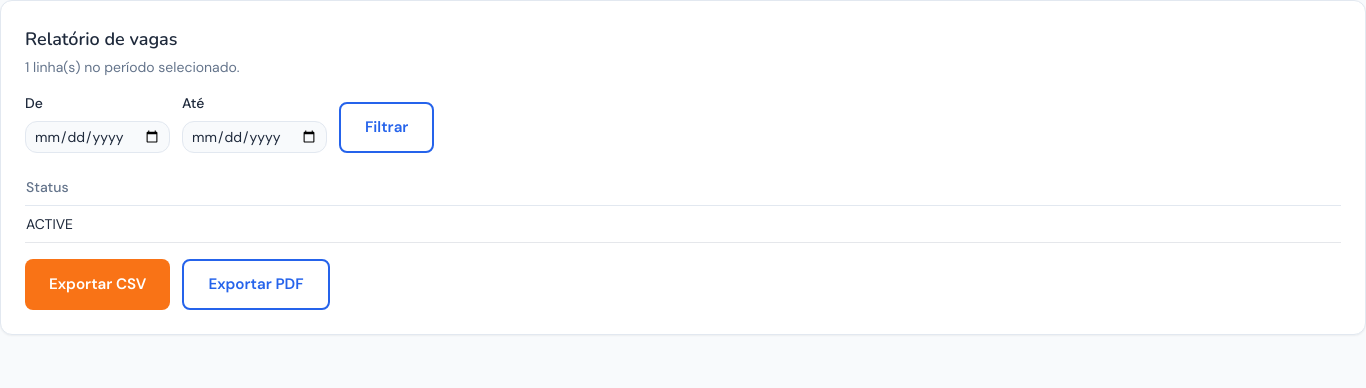
Scenario: ReportView — handleExport (E-001/E-002) › action retorna erro → exibe a mensagem, NÃO baixa nada
Step 1. Click the button "Exportar CSV" → x=98, y=284, box [25,259,170,310]
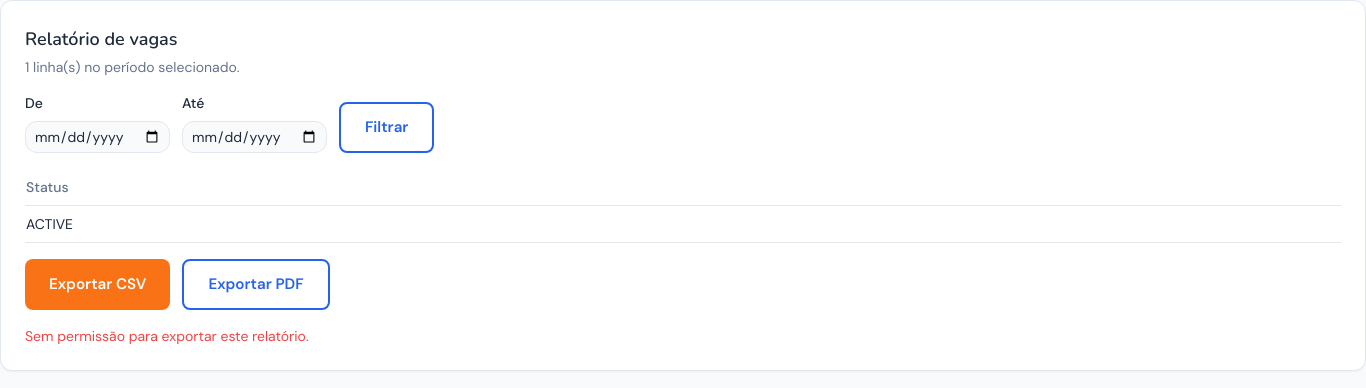
expect the text "Sem permissão para exportar este relatório." is shown: met, box [25,327,309,345]
